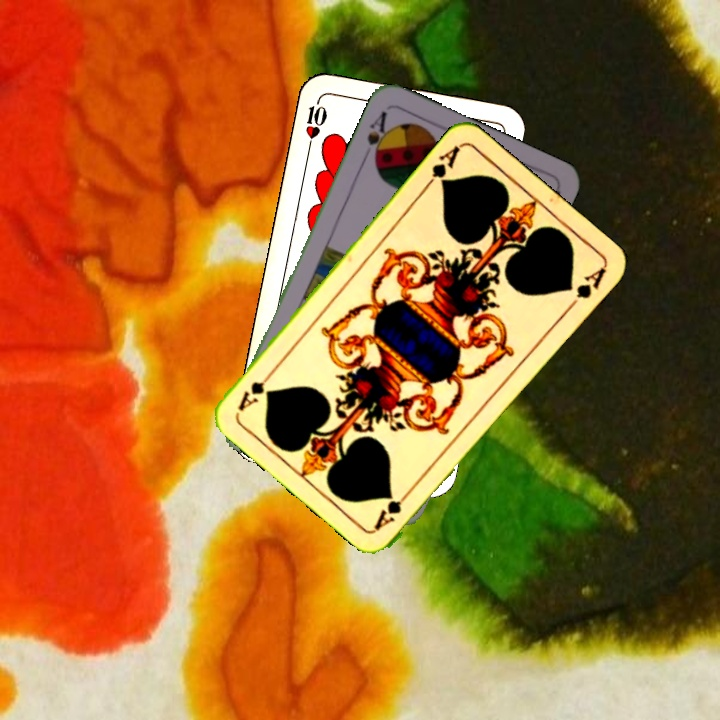GA: (370, 483, 416, 532), (420, 141, 463, 192)
H10: (301, 93, 330, 152)
SA: (361, 107, 394, 166)
